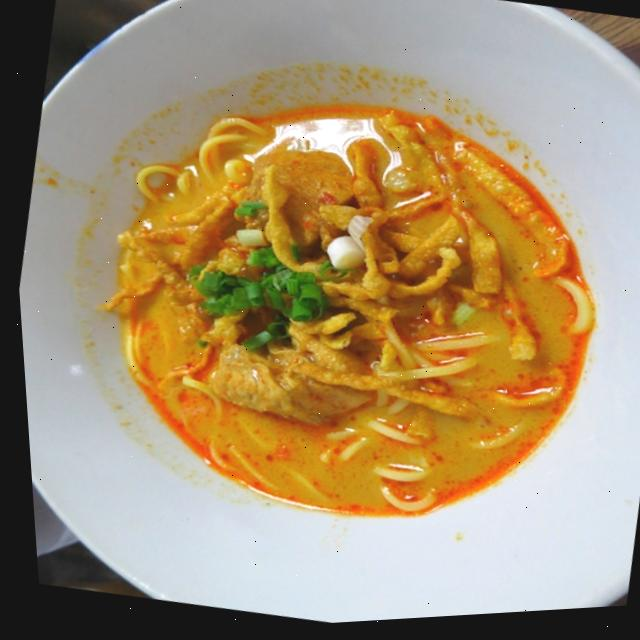面条主食: (25, 24, 640, 593)
